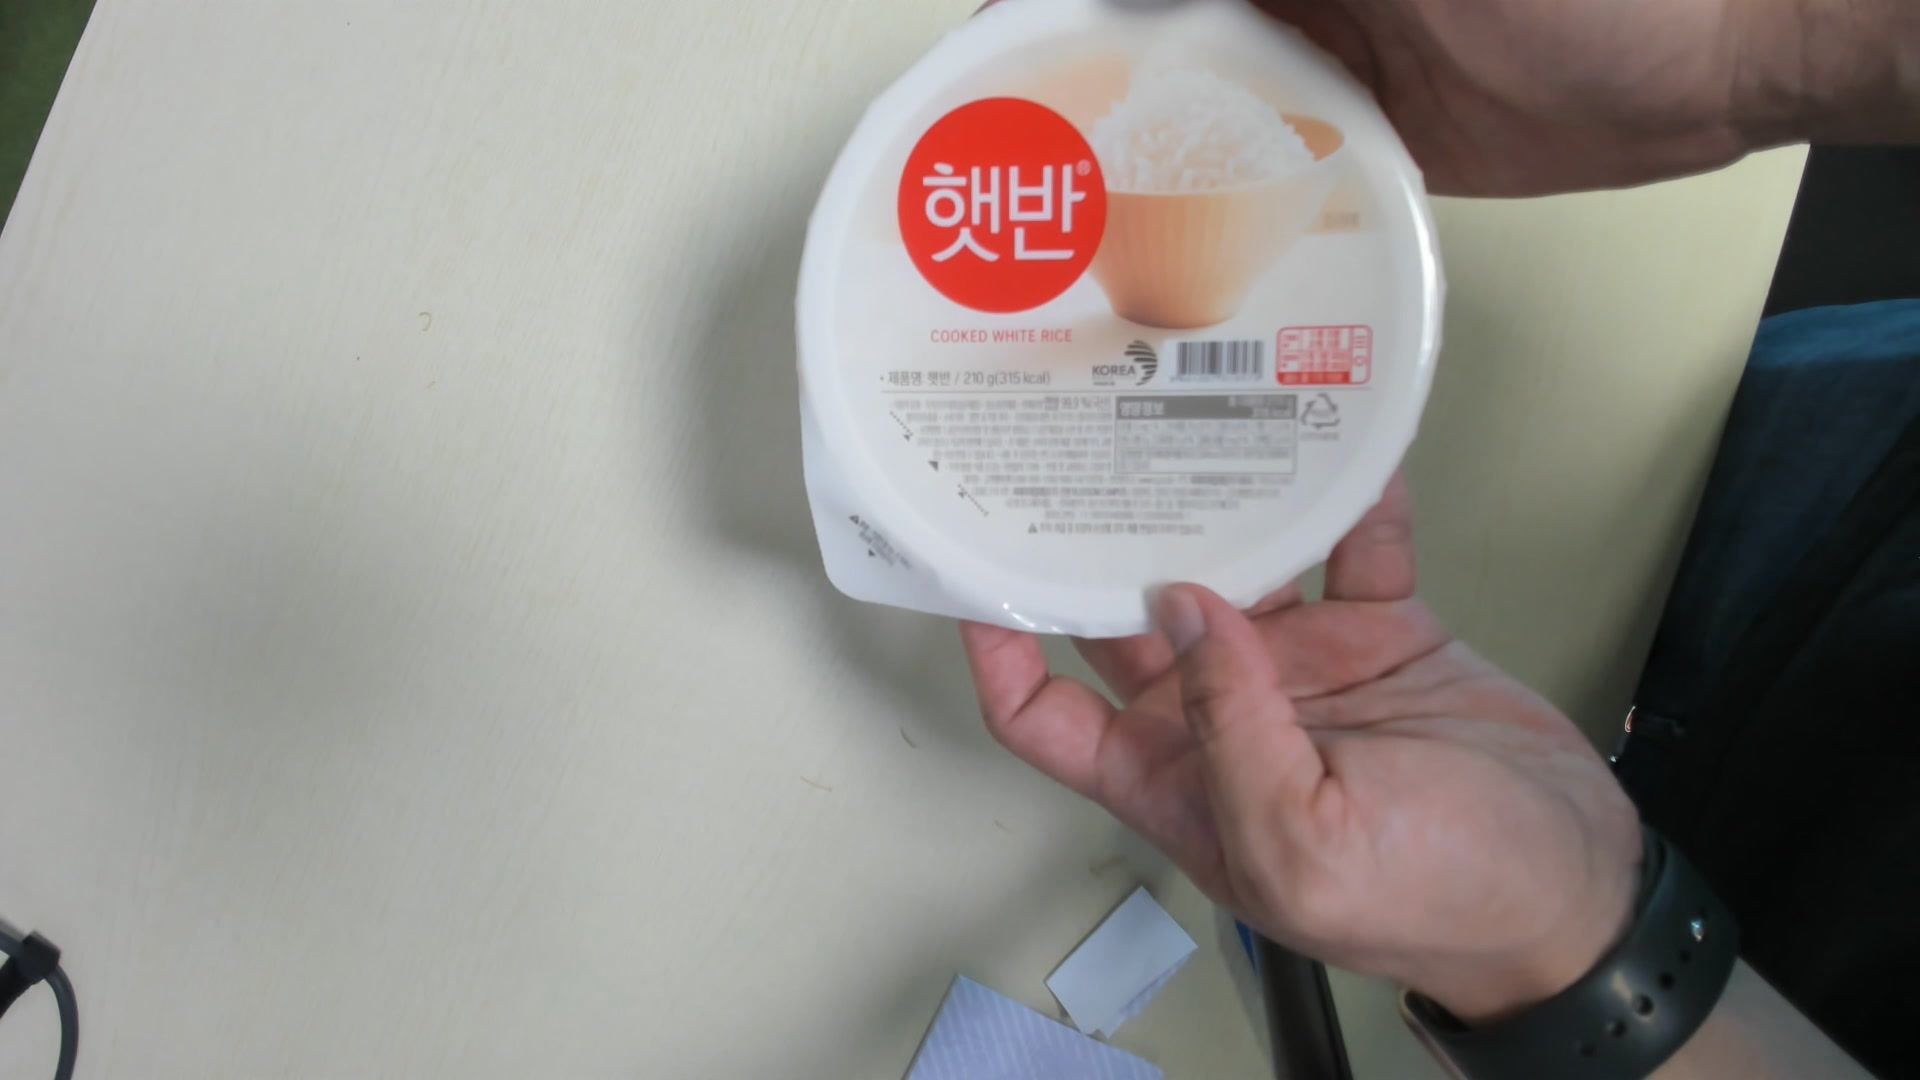Pasta_500-599g_Halal_NonHealthy: (795, 7, 1443, 644)
